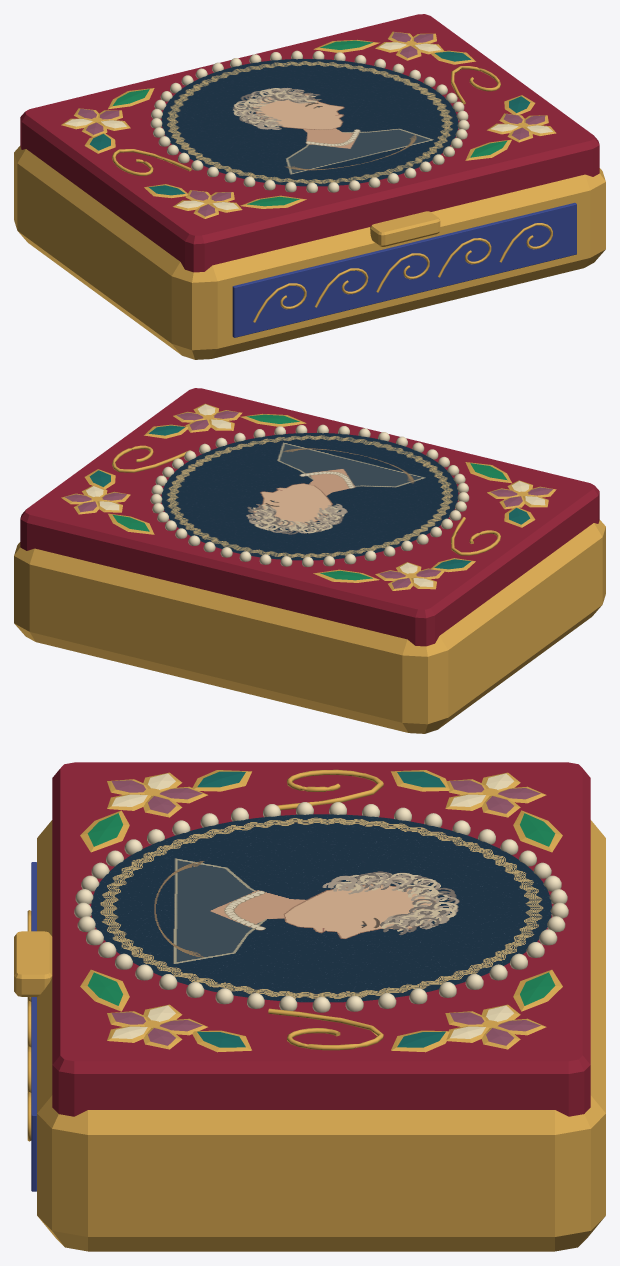
Rendered from portrait_snuffbox.fbx.
3 views of the same model, one above another, from view 1: azimuth 30°, elevation 25°; view 2: azimuth 150°, elevation 25°; view 3: azimuth 270°, elevation 25° (orthographic). The views are drawn at different scales.
Parts seen in each view (by area): view 1: portrait_snuffbox joinery; view 2: portrait_snuffbox joinery; view 3: portrait_snuffbox joinery.
Part boxes in pixels (bbox=[...]): portrait_snuffbox joinery: bbox=[14, 14, 605, 359]; portrait_snuffbox joinery: bbox=[14, 388, 605, 733]; portrait_snuffbox joinery: bbox=[14, 762, 605, 1251].
Size of the model in its own units: 0.098 by 0.0287 by 0.077.
Materials: 9 (1 with a texture image).
